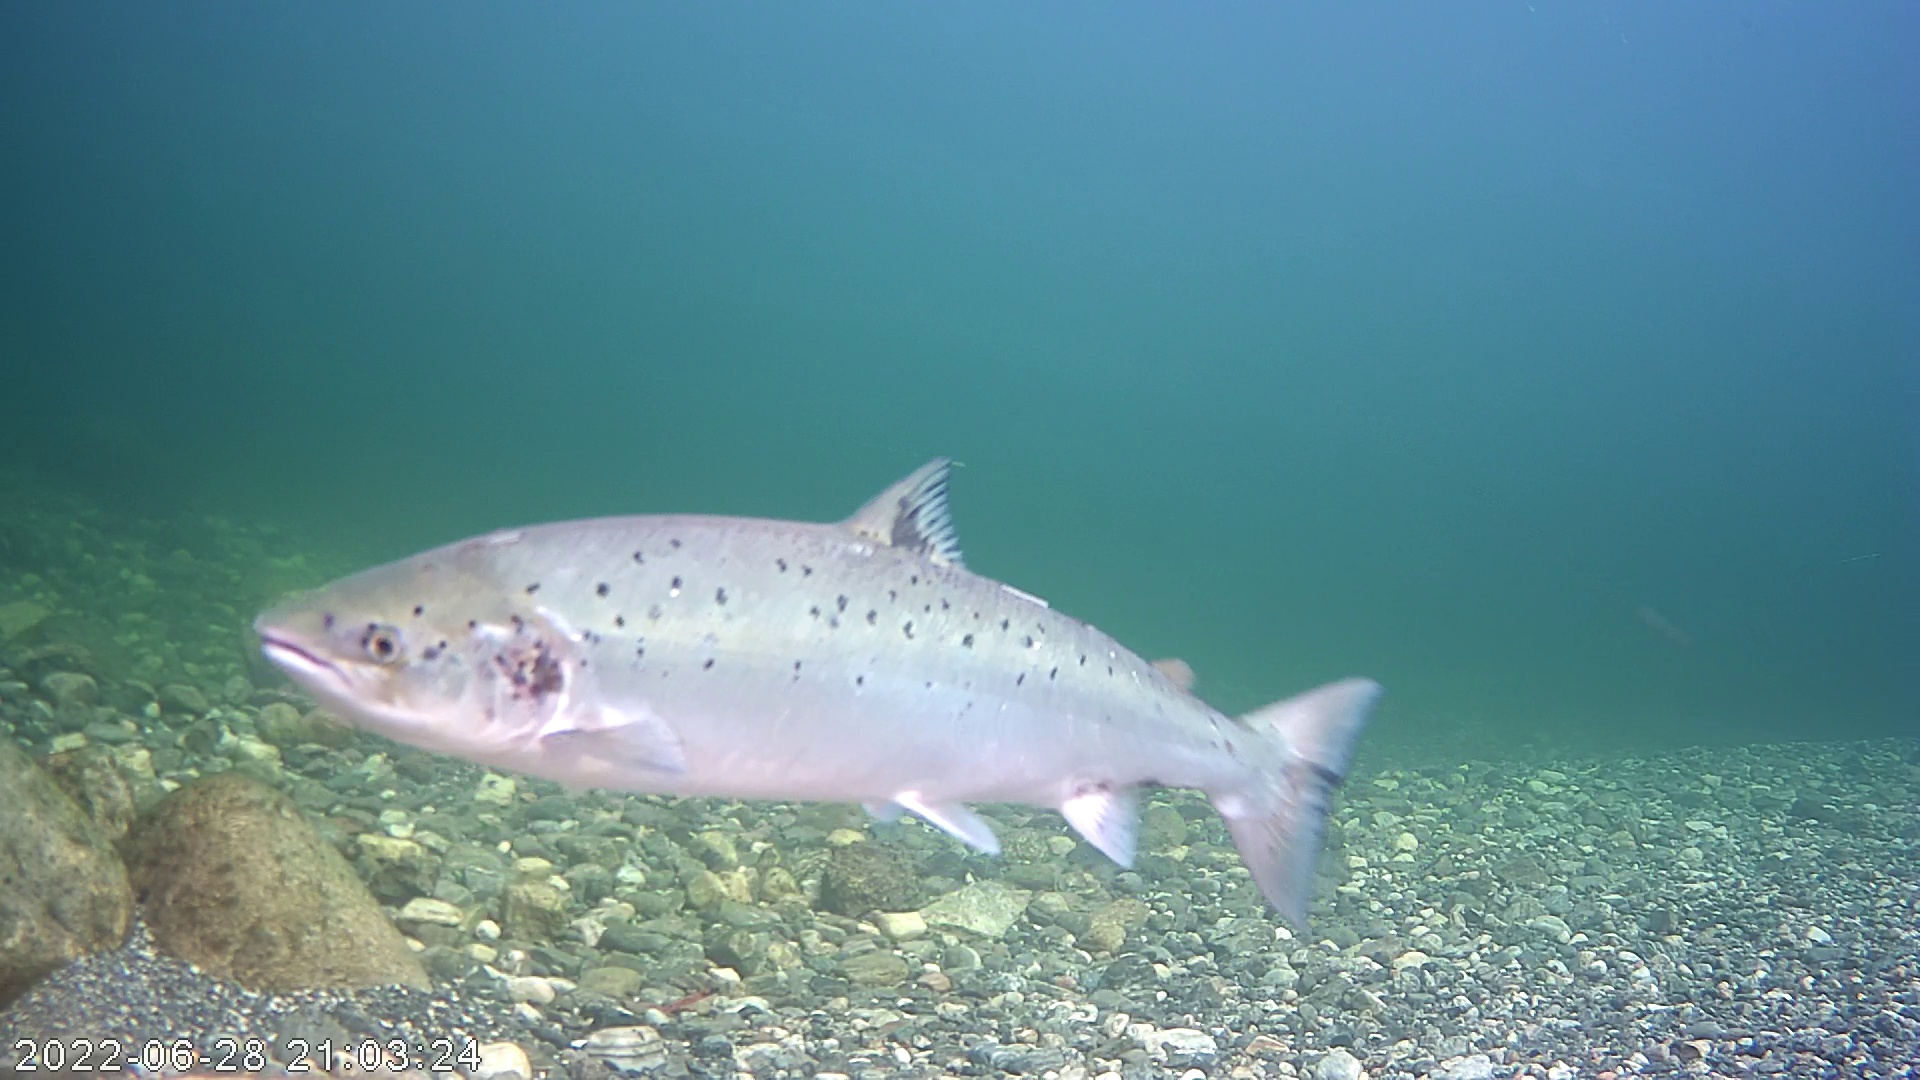salmon: (235, 369, 1389, 932)
